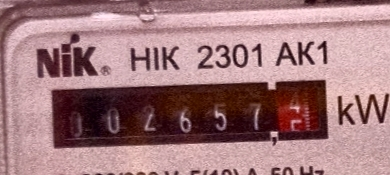0: (67, 106, 86, 136), (105, 102, 122, 133)
2: (141, 101, 159, 131)
4: (287, 86, 303, 112)
5: (212, 99, 230, 130), (289, 115, 305, 130)
6: (177, 102, 193, 132)
7: (248, 97, 265, 130)
screen: (42, 60, 341, 164)
